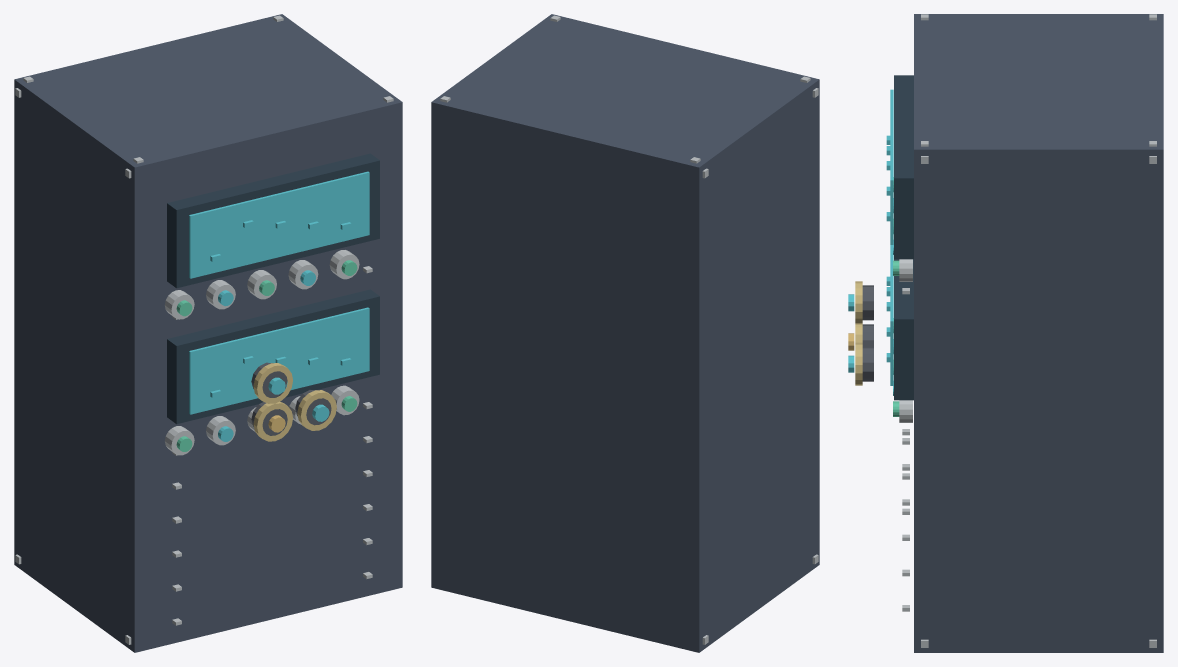
The model's file is 61_L82_FaultDiagnosisAndRepairRouter.glb.
The picture shows the model from 3 angles, left to right: view 1: azimuth 30°, elevation 25°; view 2: azimuth 150°, elevation 25°; view 3: azimuth 270°, elevation 25°; orthographic projection. The views are drawn at different scales.
Parts seen in each view (by area): view 1: FaultDiagnosisAndRepairRouter_Node_0000, FaultDiagnosisAndRepairRouter_Node_0010, FaultDiagnosisAndRepairRouter_Node_0027, FaultDiagnosisAndRepairRouter_Node_0009, FaultDiagnosisAndRepairRouter_Node_0026, FaultDiagnosisAndRepairRouter_Node_0073, FaultDiagnosisAndRepairRouter_Node_0076, FaultDiagnosisAndRepairRouter_Node_0070; view 2: FaultDiagnosisAndRepairRouter_Node_0000; view 3: FaultDiagnosisAndRepairRouter_Node_0000, FaultDiagnosisAndRepairRouter_Node_0009, FaultDiagnosisAndRepairRouter_Node_0026, FaultDiagnosisAndRepairRouter_Node_0010, FaultDiagnosisAndRepairRouter_Node_0027.
Part boxes in pixels (x1,y1,x2,y2): FaultDiagnosisAndRepairRouter_Node_0000: [14, 14, 402, 652]; FaultDiagnosisAndRepairRouter_Node_0010: [189, 171, 369, 278]; FaultDiagnosisAndRepairRouter_Node_0027: [189, 307, 369, 414]; FaultDiagnosisAndRepairRouter_Node_0009: [167, 153, 379, 288]; FaultDiagnosisAndRepairRouter_Node_0026: [167, 289, 379, 424]; FaultDiagnosisAndRepairRouter_Node_0073: [297, 390, 336, 430]; FaultDiagnosisAndRepairRouter_Node_0076: [253, 363, 292, 403]; FaultDiagnosisAndRepairRouter_Node_0070: [253, 401, 292, 441]; FaultDiagnosisAndRepairRouter_Node_0000: [431, 14, 819, 652]; FaultDiagnosisAndRepairRouter_Node_0000: [914, 14, 1163, 652]; FaultDiagnosisAndRepairRouter_Node_0009: [894, 75, 913, 259]; FaultDiagnosisAndRepairRouter_Node_0026: [894, 259, 913, 400]; FaultDiagnosisAndRepairRouter_Node_0010: [890, 89, 893, 244]; FaultDiagnosisAndRepairRouter_Node_0027: [890, 245, 893, 385].
Bounding box in the file's own units: 1.06 × 1.82 × 1.02.
